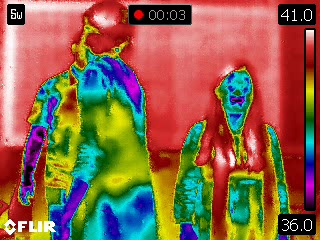human: (172, 54, 292, 240), (65, 2, 157, 240), (19, 31, 92, 210)
